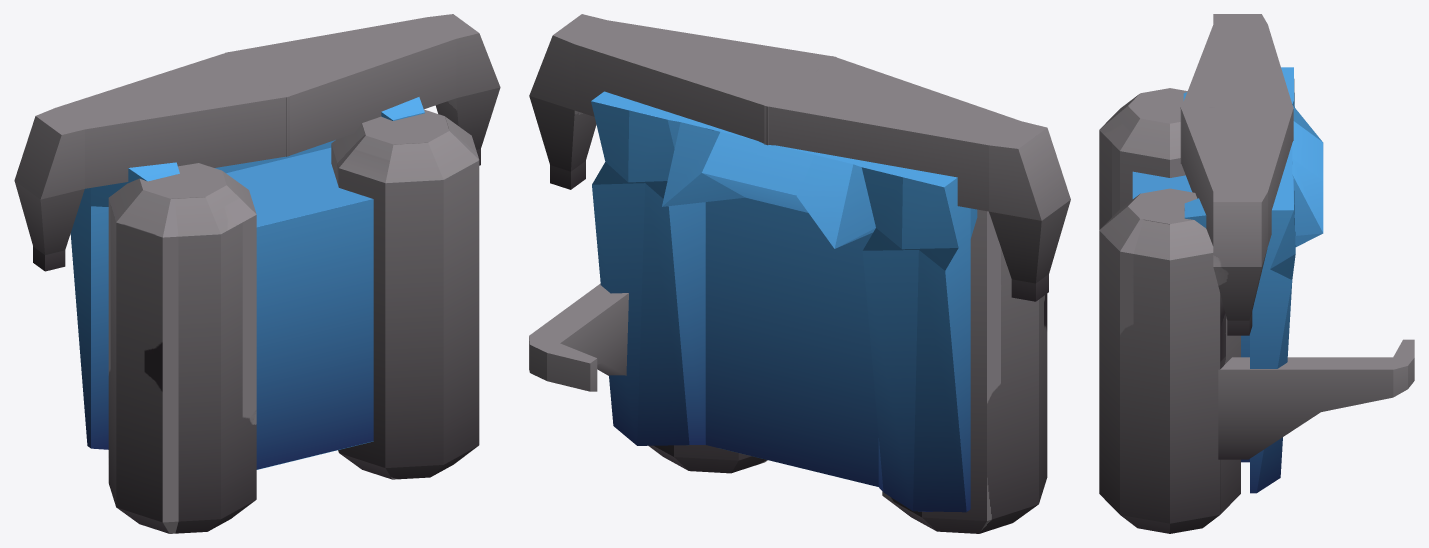
File: Jetpack.glb
The picture shows the model from 3 angles, left to right: view 1: azimuth 30°, elevation 25°; view 2: azimuth 150°, elevation 25°; view 3: azimuth 270°, elevation 25°; orthographic projection. The views are drawn at different scales.
Parts seen in each view (by area): view 1: Cylinder, Cube.001, Cube; view 2: Cube, Cube.001, Cylinder, Cube.002; view 3: Cylinder, Cube.001, Cube.002, Cube.
Boxes of the visible parts, x1,y1,x2,y2 form: Cylinder: (108, 109, 479, 533); Cube.001: (14, 14, 500, 271); Cube: (70, 97, 424, 469); Cube: (591, 91, 977, 512); Cube.001: (529, 14, 1070, 301); Cylinder: (648, 209, 1047, 533); Cube.002: (529, 283, 628, 391); Cylinder: (1099, 88, 1240, 533); Cube.001: (1180, 14, 1293, 335); Cube.002: (1218, 339, 1414, 459); Cube: (1132, 67, 1323, 493).
Size of the model in its own units: 3.97 by 3.18 by 2.55.
2 materials, 2 textured.
